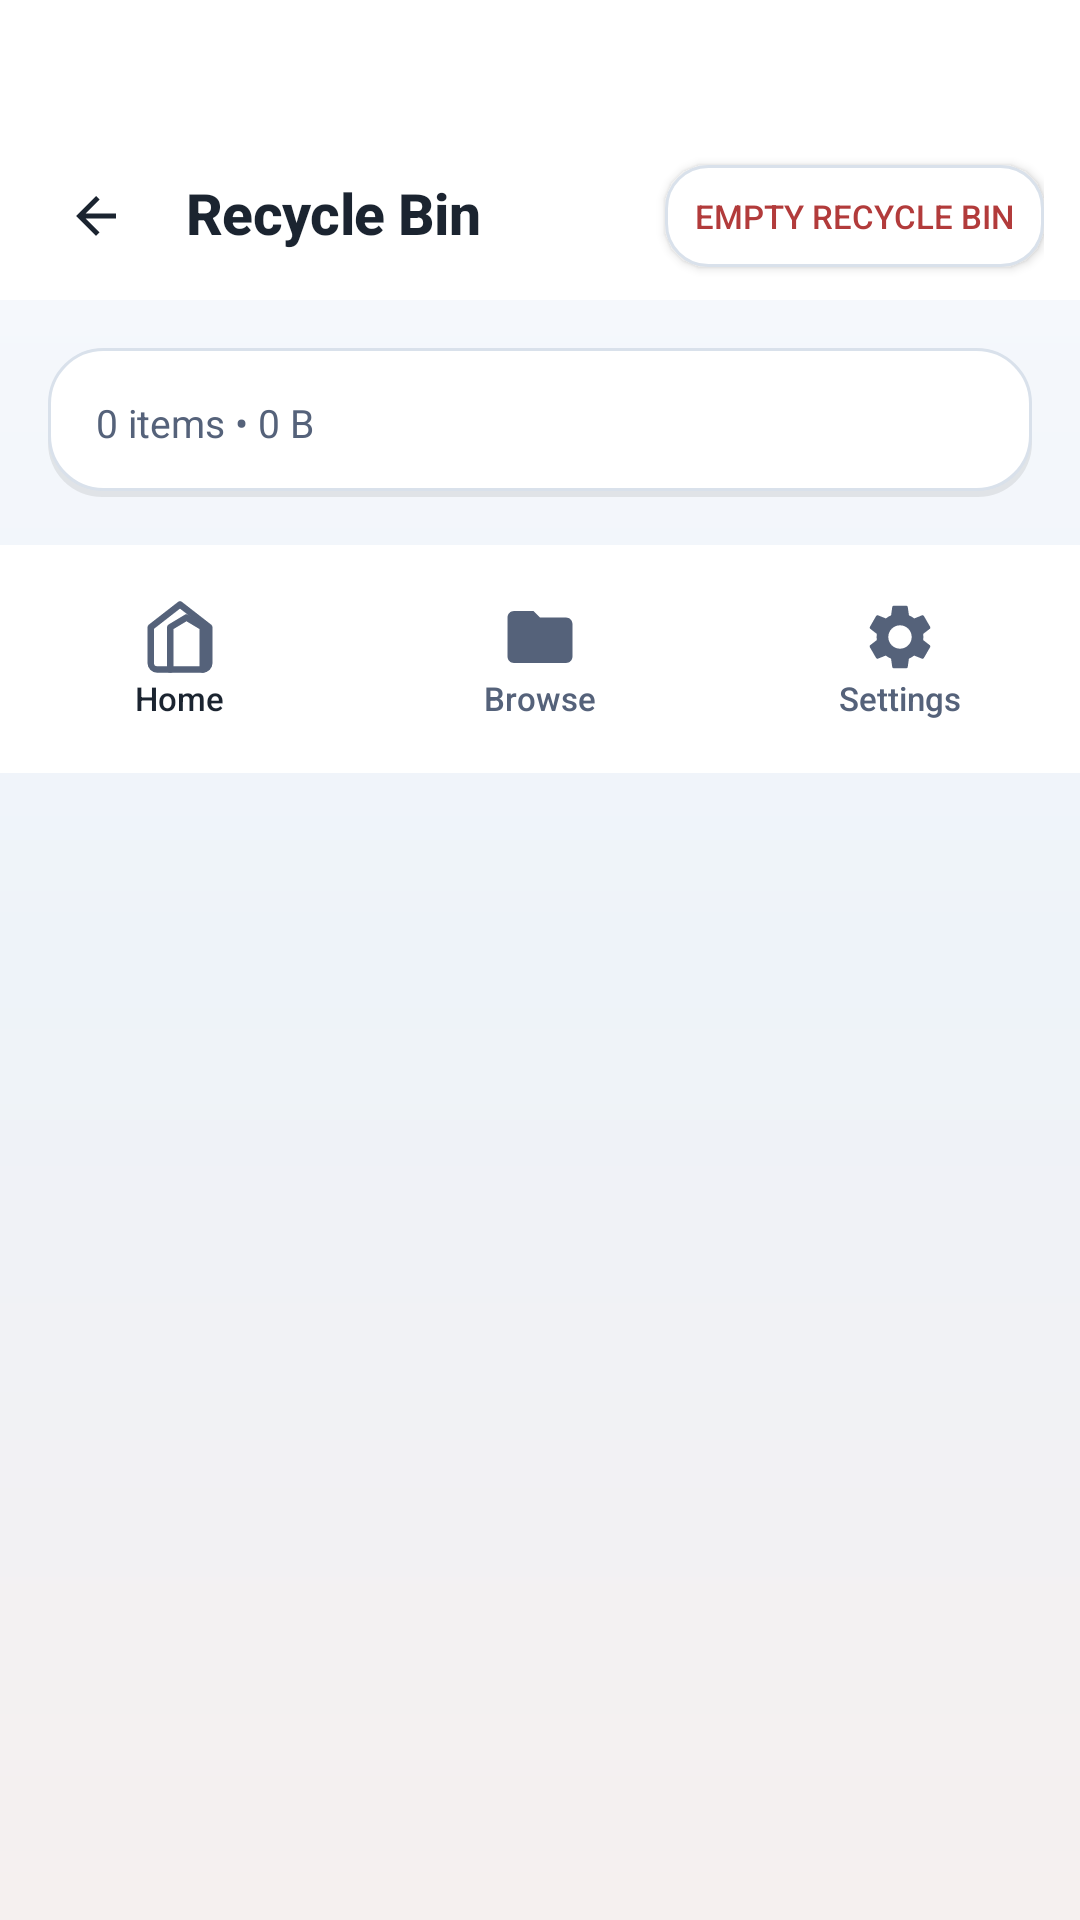

Where to tap for icons on this 1080×1920 app screen, as (x=x, y=y):
Back: (x=96, y=216)
